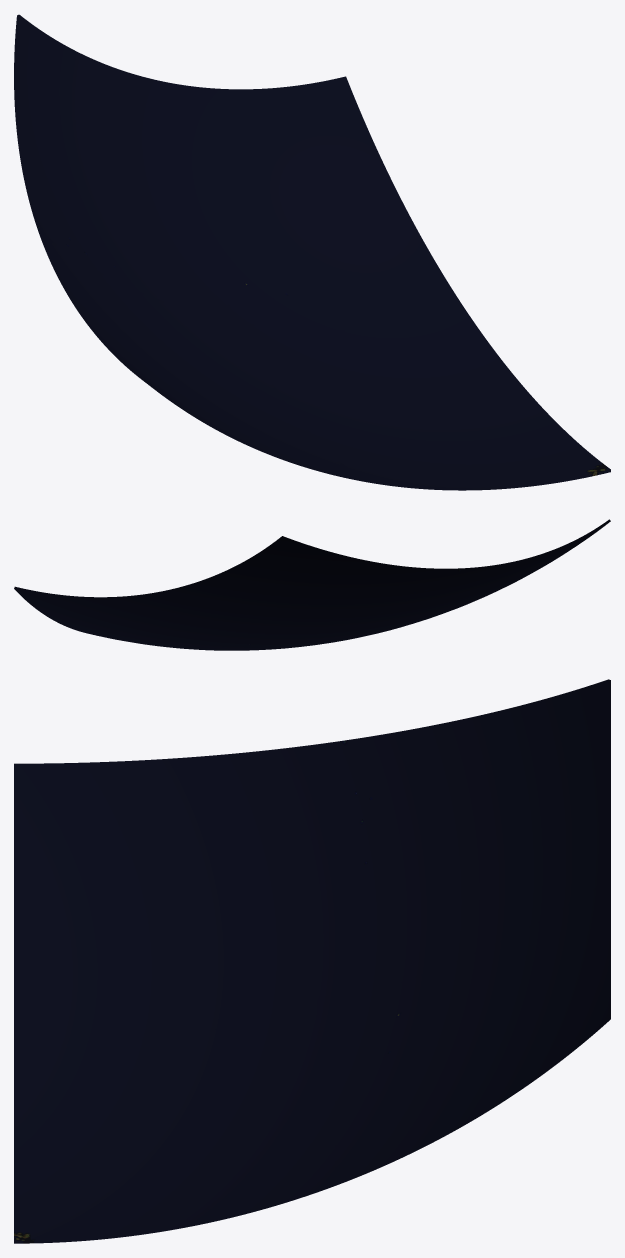
3 views of the same model, one above another, from view 1: azimuth 30°, elevation 25°; view 2: azimuth 150°, elevation 25°; view 3: azimuth 270°, elevation 25° (orthographic). The views are drawn at different scales.
Visible parts, largest first — view 1: DefaultName.005, DefaultName.003, DefaultName.007, DefaultName.001; view 2: DefaultName.007, DefaultName.005, DefaultName.001; view 3: DefaultName.001, DefaultName.007, DefaultName.003, DefaultName.005.
Boxes of the visible parts, left/top/right/bottom form: DefaultName.005: left=168, top=76, right=467, bottom=331; DefaultName.003: left=237, top=313, right=610, bottom=490; DefaultName.007: left=14, top=14, right=236, bottom=320; DefaultName.001: left=39, top=232, right=361, bottom=480; DefaultName.007: left=159, top=536, right=464, bottom=643; DefaultName.005: left=14, top=586, right=301, bottom=650; DefaultName.001: left=304, top=519, right=610, bottom=643; DefaultName.001: left=14, top=742, right=335, bottom=1047; DefaultName.007: left=335, top=679, right=610, bottom=1002; DefaultName.003: left=14, top=1002, right=336, bottom=1243; DefaultName.005: left=335, top=879, right=610, bottom=1184.
Bounding box in the file's own units: 45100 × 31962 × 44873.
Materials: 4 (4 with a texture image).
